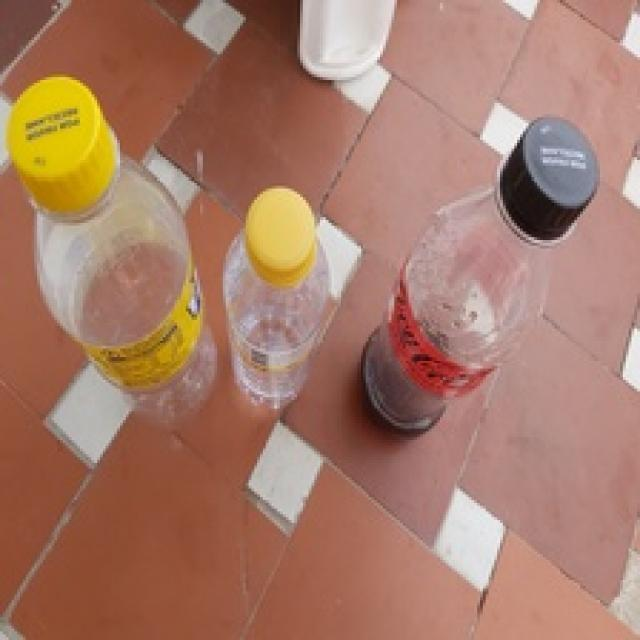Plastic: (360, 114, 596, 437), (7, 76, 222, 424), (222, 185, 334, 410)
